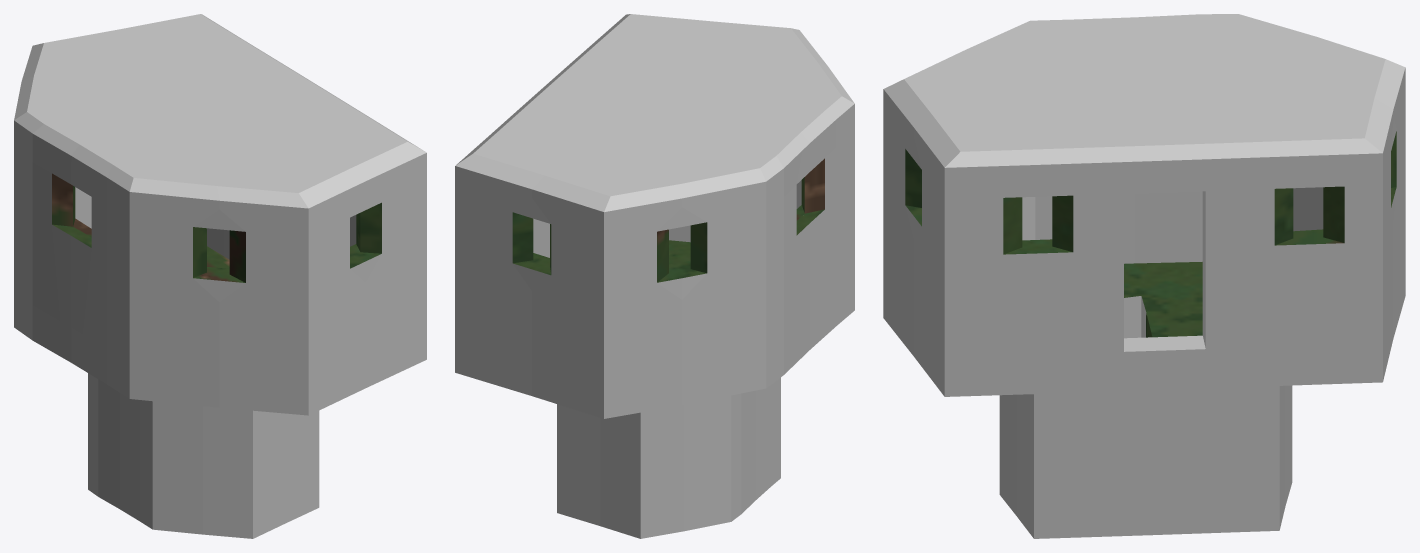
The model's file is Pillbox_2.fbx.
The picture shows the model from 3 angles, left to right: view 1: azimuth 30°, elevation 25°; view 2: azimuth 150°, elevation 25°; view 3: azimuth 270°, elevation 25°; orthographic projection. The views are drawn at different scales.
Visible parts, largest first — view 1: polySurface2; view 2: polySurface2; view 3: polySurface2.
Part boxes in pixels (box(x1,y1,x2,y2)): polySurface2: box(14, 14, 426, 538); polySurface2: box(455, 14, 854, 538); polySurface2: box(883, 14, 1405, 538).
Bounding box in the file's own units: 448 × 661 × 583.
